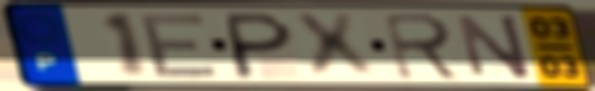1: (101, 10, 150, 80)
E: (137, 11, 224, 80)
N: (452, 12, 535, 81)
P: (224, 10, 296, 82)
R: (381, 11, 467, 81)
X: (287, 11, 381, 80)
